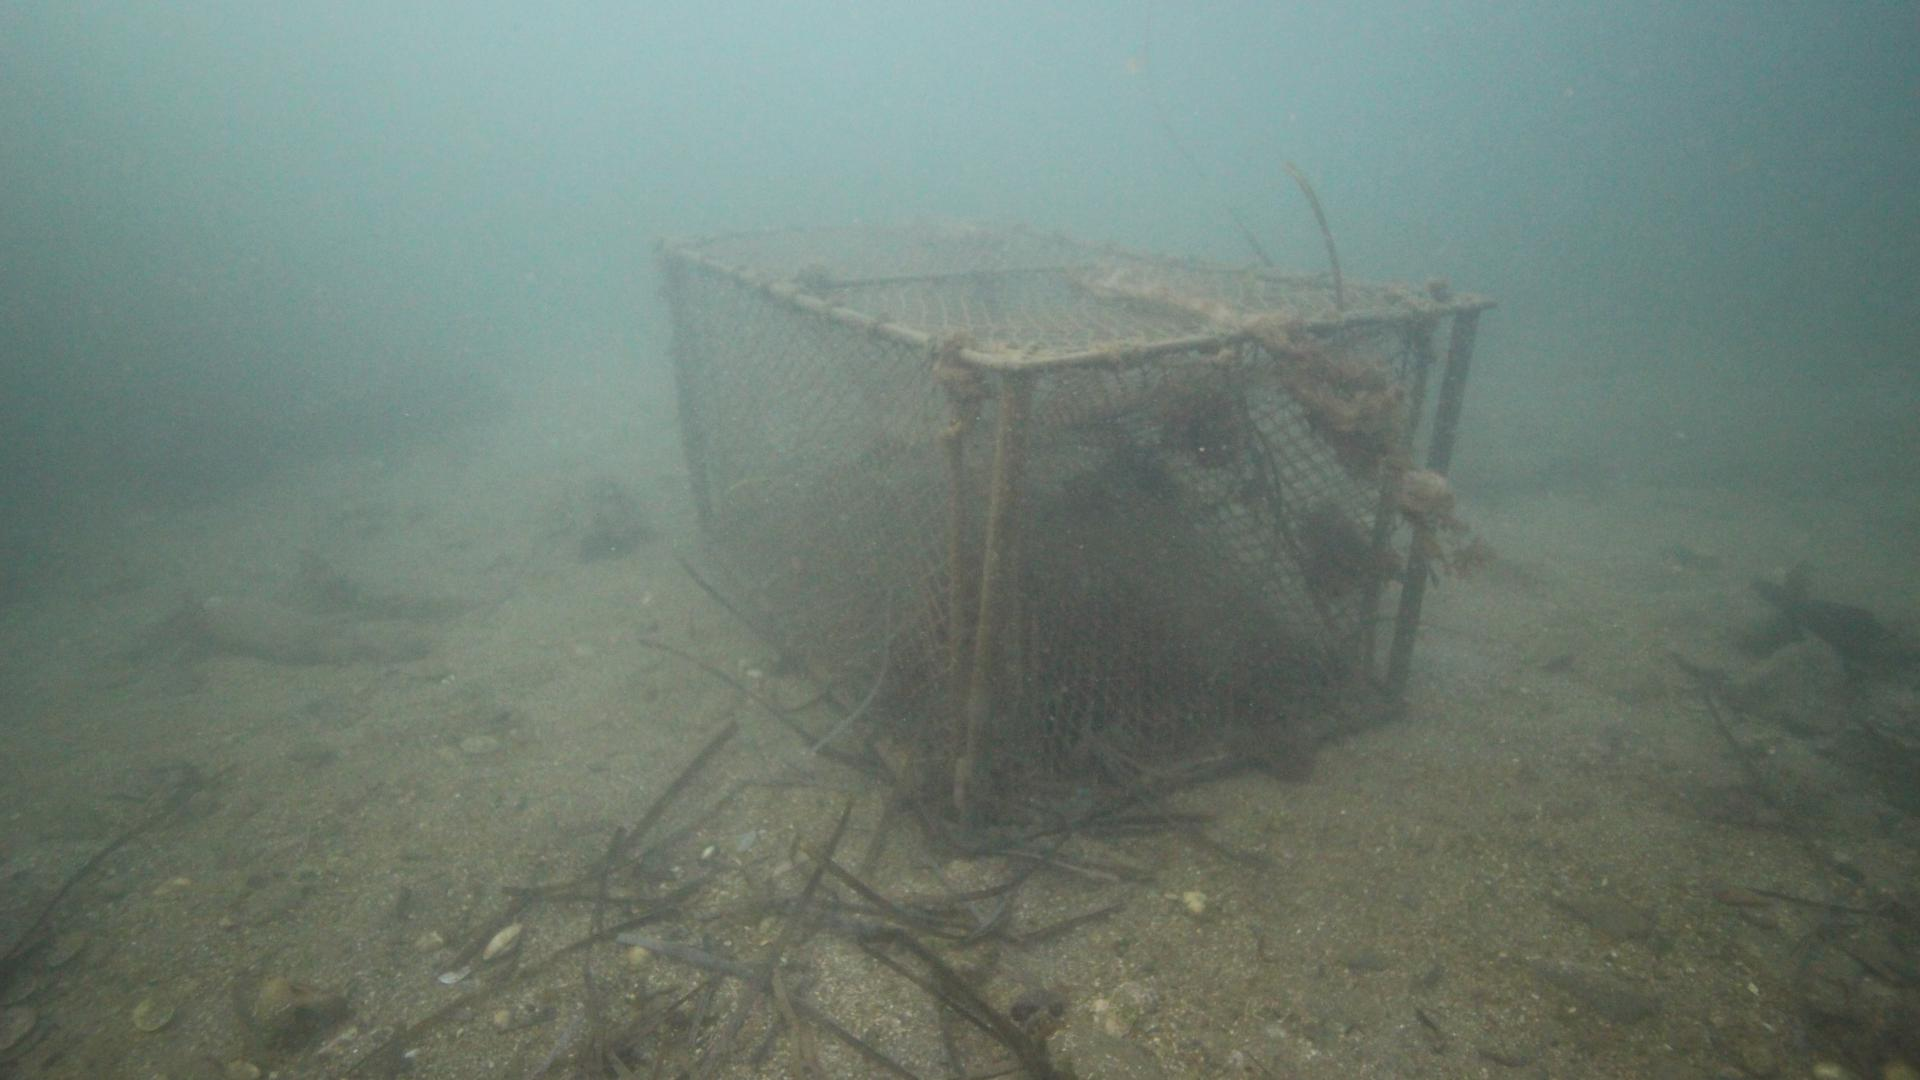rectangular fish trap: (649, 216, 1505, 856)
